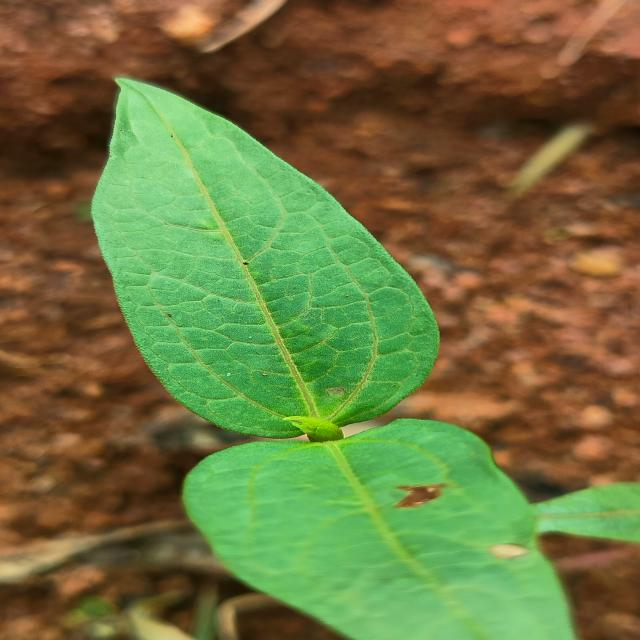Black gram_healthy: (91, 75, 440, 442)
